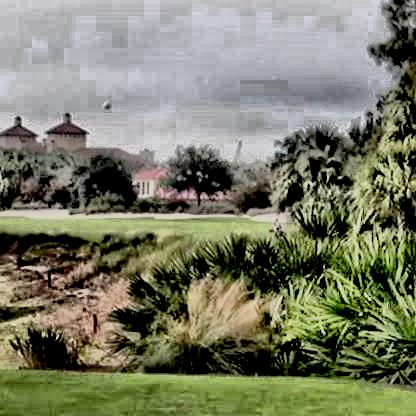golfball: (99, 99, 111, 109)
